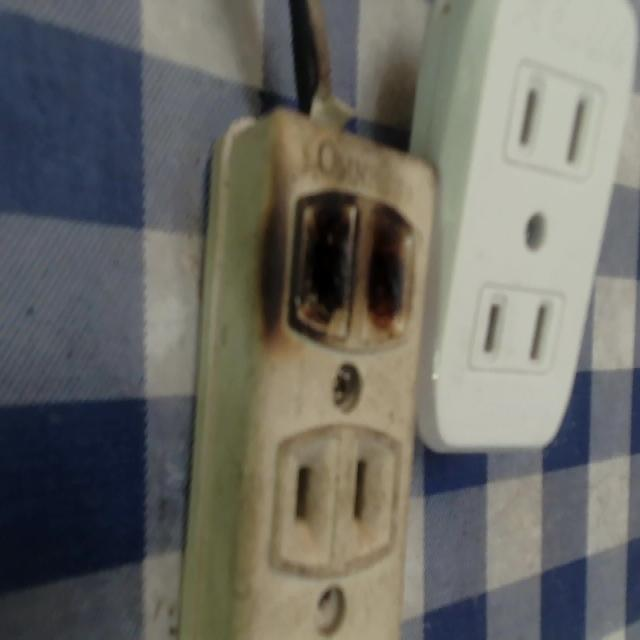-: (276, 166, 420, 354)
